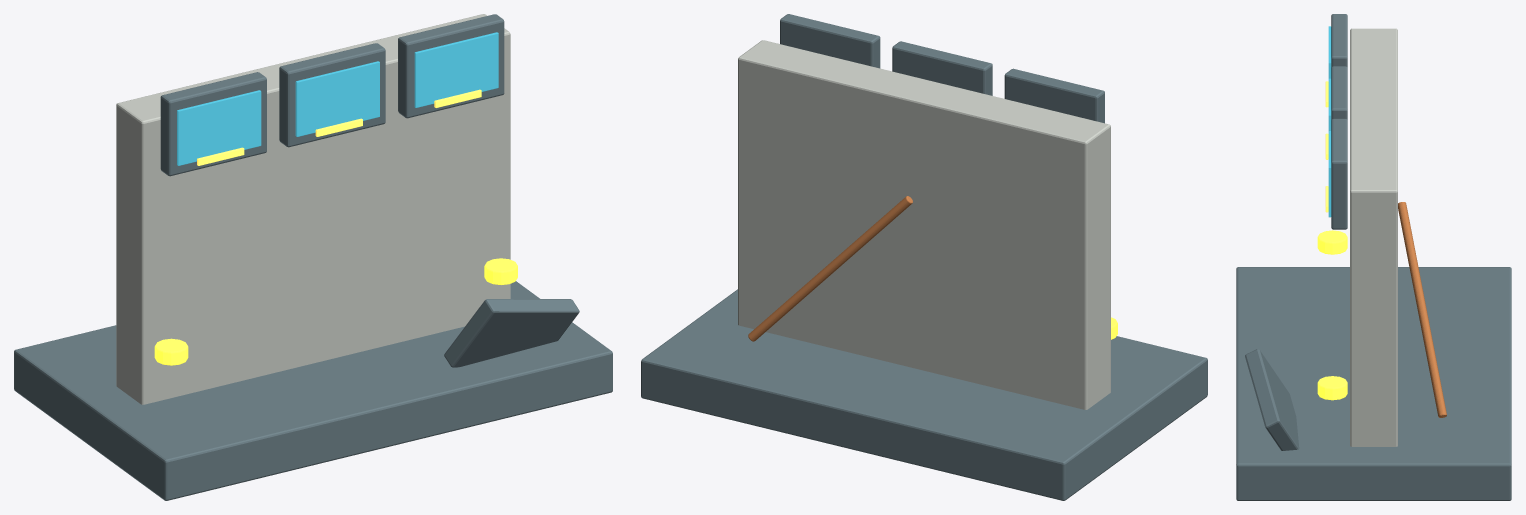
Rendered from micro_reactor_control_d3.glb.
The picture shows the model from 3 angles, left to right: view 1: azimuth 30°, elevation 25°; view 2: azimuth 150°, elevation 25°; view 3: azimuth 270°, elevation 25°; orthographic projection. The views are drawn at different scales.
Visible parts, largest first — view 1: Open instrument rack.007, Control skid base.007, Detached monitor.003, Monitor glass.023, Monitor glass.021, Monitor glass.022, Monitor housing.023, Monitor housing.022, Monitor housing.021, Emergency stop.014, Emergency stop.015; view 2: Open instrument rack.007, Control skid base.007, Monitor housing.023, Monitor housing.022, Monitor housing.021, Exposed control cable.003; view 3: Control skid base.007, Open instrument rack.007, Detached monitor.003, Exposed control cable.003, Monitor housing.023, Monitor housing.021, Monitor housing.022, Emergency stop.015, Emergency stop.014, Monitor glass.023.
Boxes of the visible parts, x1,y1,x2,y2 form: Open instrument rack.007: (116,14,510,404); Control skid base.007: (14,281,612,500); Detached monitor.003: (444,299,579,367); Monitor glass.023: (414,32,498,107); Monitor glass.021: (177,90,261,165); Monitor glass.022: (295,61,379,136); Monitor housing.023: (398,14,504,118); Monitor housing.022: (279,43,385,147); Monitor housing.021: (160,72,266,176); Emergency stop.014: (154,338,188,365); Emergency stop.015: (484,258,517,284); Open instrument rack.007: (738,40,1110,409); Control skid base.007: (641,289,1207,500); Monitor housing.023: (780,14,880,68); Monitor housing.022: (892,41,992,95); Monitor housing.021: (1004,68,1104,123); Exposed control cable.003: (748,196,912,341); Control skid base.007: (1236,267,1511,500); Open instrument rack.007: (1350,28,1397,446); Detached monitor.003: (1245,349,1299,450); Exposed control cable.003: (1398,202,1446,417); Monitor housing.023: (1331,118,1347,229); Monitor housing.021: (1331,14,1347,67); Monitor housing.022: (1331,66,1347,119); Emergency stop.015: (1317,376,1347,400); Emergency stop.014: (1317,230,1347,254); Monitor glass.023: (1328,131,1331,217).
Size of the model in its own units: 3.4 by 2.53 by 2.
